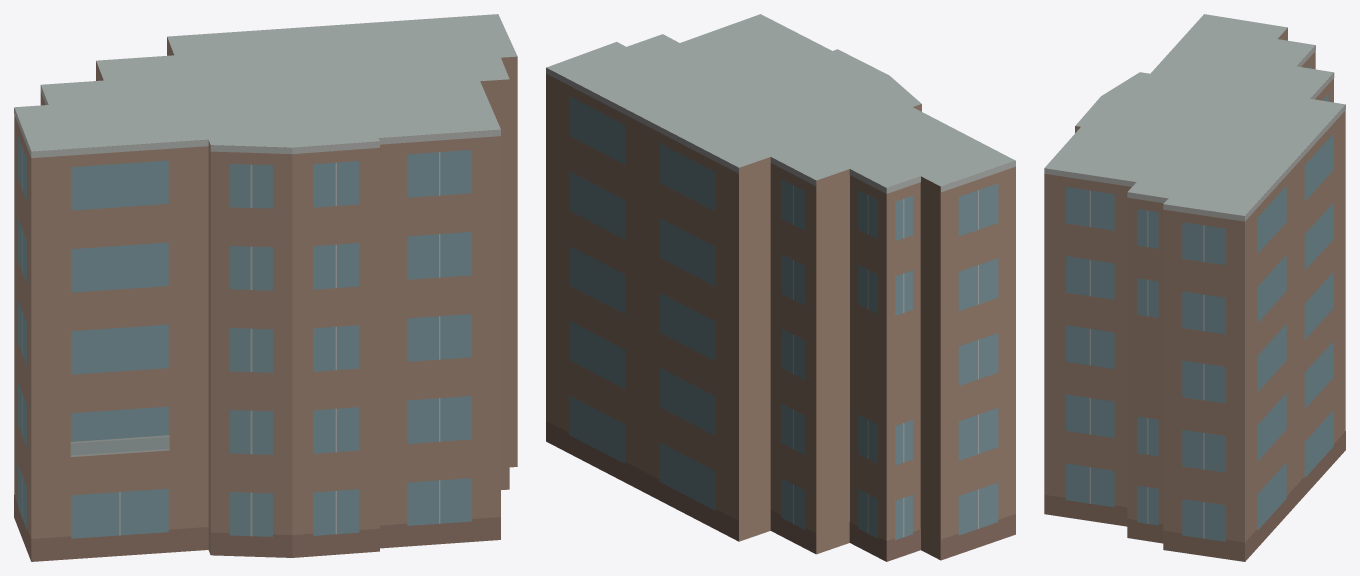
Rendered from survey-upis-32682103.glb.
3 renders of one model, left to right at view 1: azimuth 30°, elevation 25°; view 2: azimuth 150°, elevation 25°; view 3: azimuth 270°, elevation 25°, orthographic. The views are drawn at different scales.
Parts seen in each view (by area): view 1: survey-upis-32682103.tmp; view 2: survey-upis-32682103.tmp; view 3: survey-upis-32682103.tmp.
Boxes of the visible parts, x1,y1,x2,y2 form: survey-upis-32682103.tmp: (14,14,517,561); survey-upis-32682103.tmp: (546,14,1015,561); survey-upis-32682103.tmp: (1044,14,1345,561).
Size of the model in its own units: 19.12 by 15.25 by 12.06.
